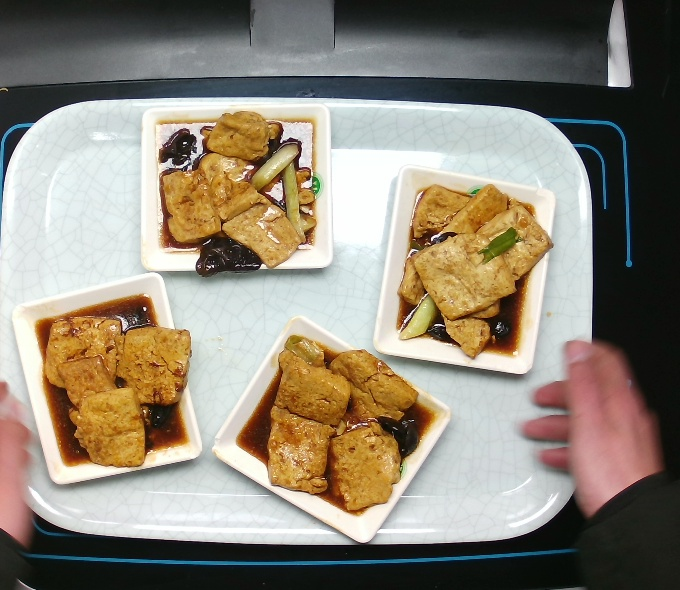wcq-JiaChangDouFu: (231, 331, 439, 517), (390, 179, 560, 363), (30, 288, 195, 471), (151, 107, 322, 279)
